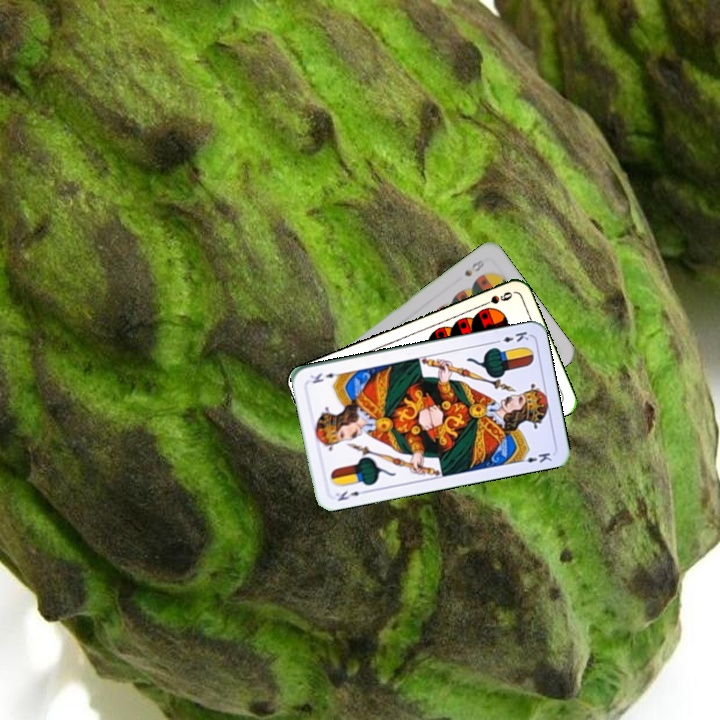EK: (491, 327, 531, 346), (331, 486, 369, 504)
S8: (460, 255, 487, 279)
S9: (476, 288, 515, 310)
